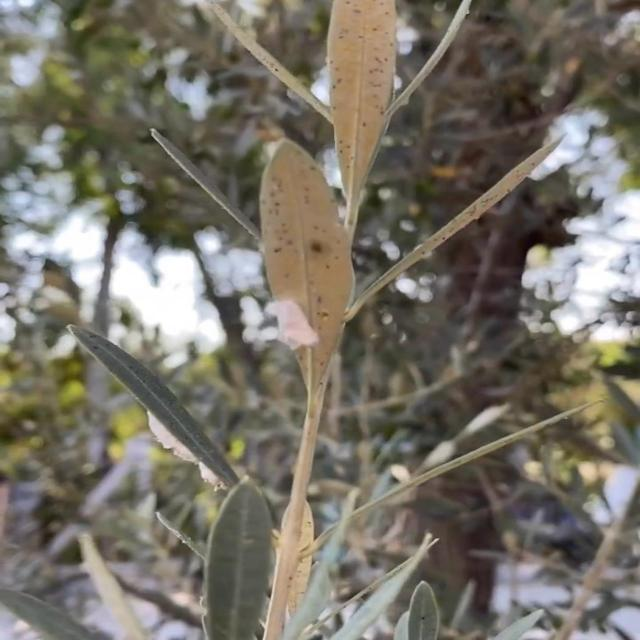Psyllid: (147, 410, 237, 489), (254, 298, 318, 351)
